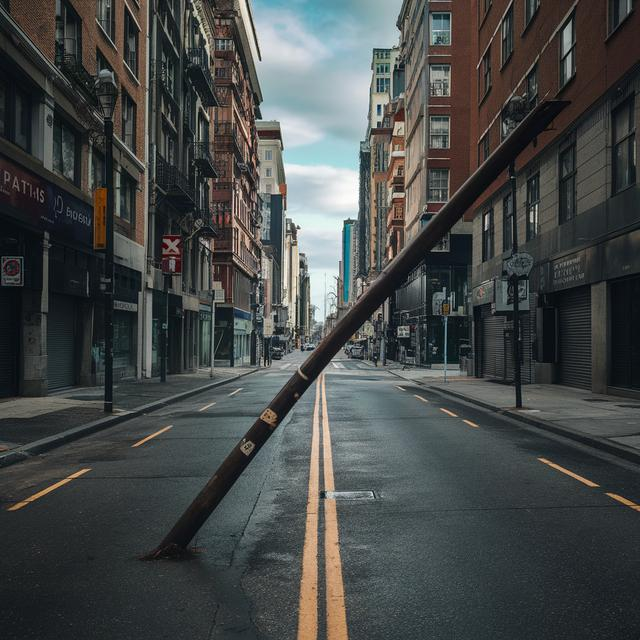Inclined Pole: (141, 92, 571, 557)
